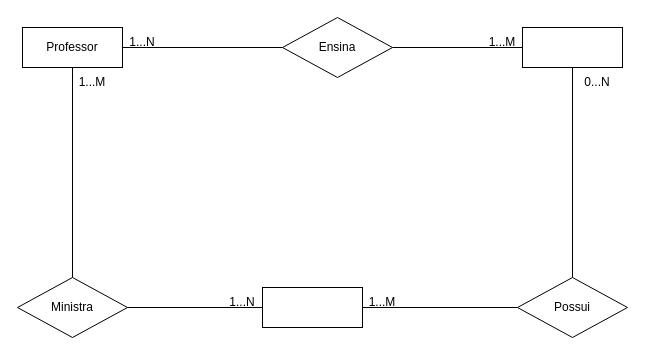
This 645x355 diagram has some shape labels left out. Here are the shapes that lost their labels. From the top down, the box of each, then its label:
(522, 26, 622, 68): Aluno
(262, 286, 362, 328): Disciplina
